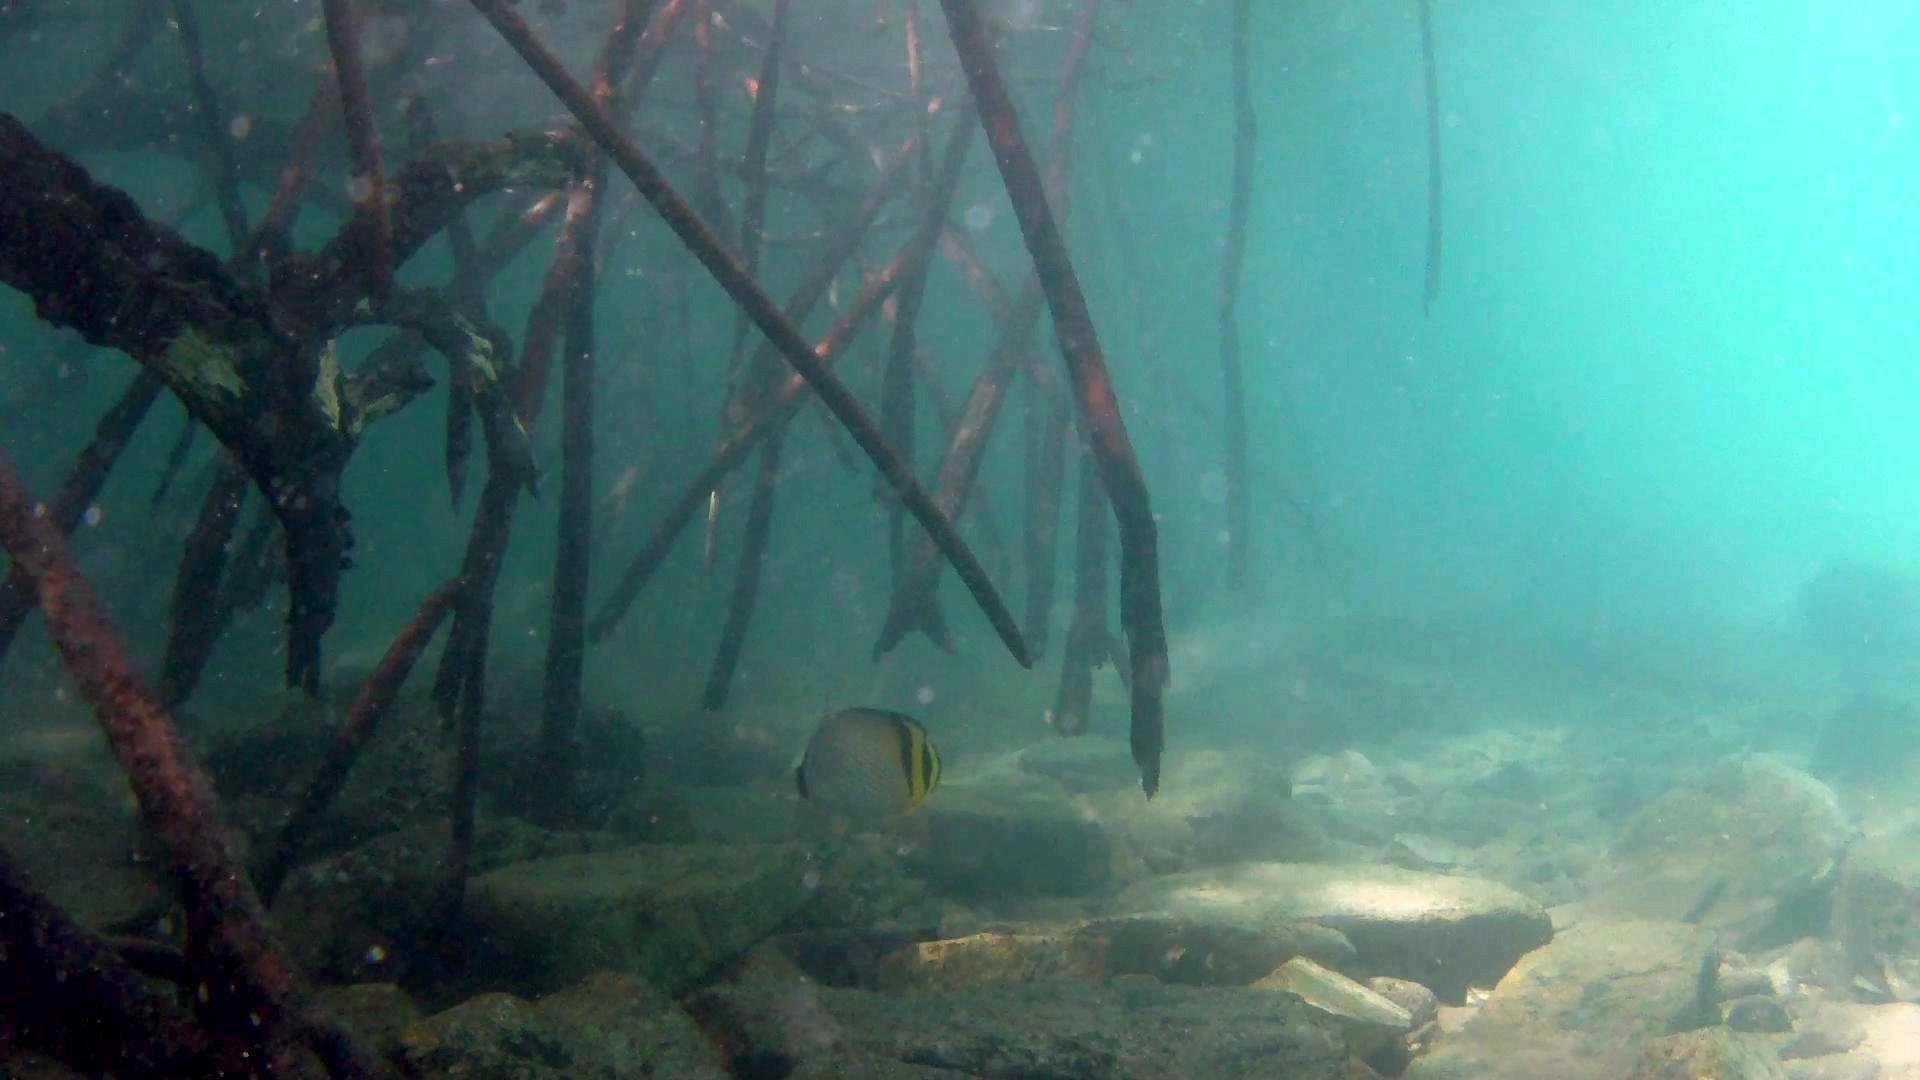chaetodon vagabundus: (779, 705, 946, 822)
